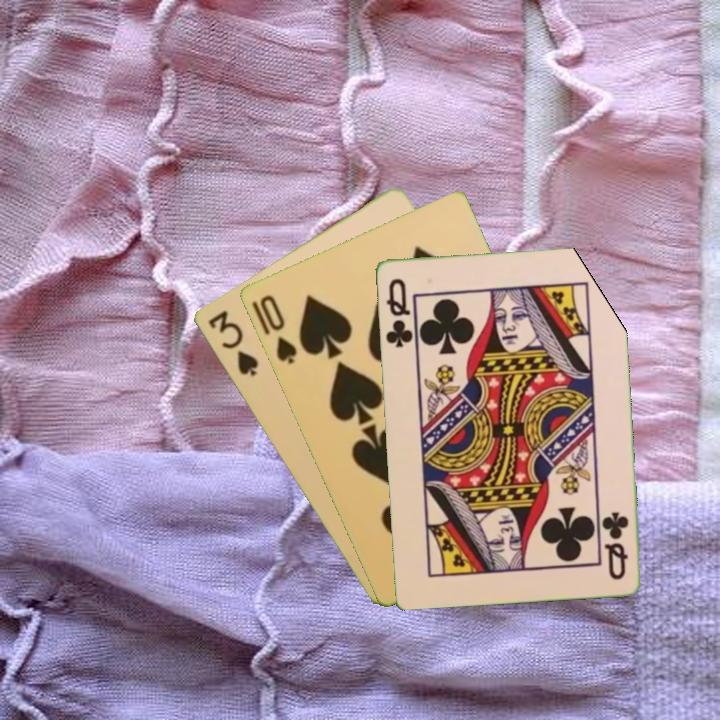10s: (255, 291, 300, 367)
3s: (204, 306, 261, 379)
Qc: (381, 274, 416, 350), (599, 508, 631, 582)
